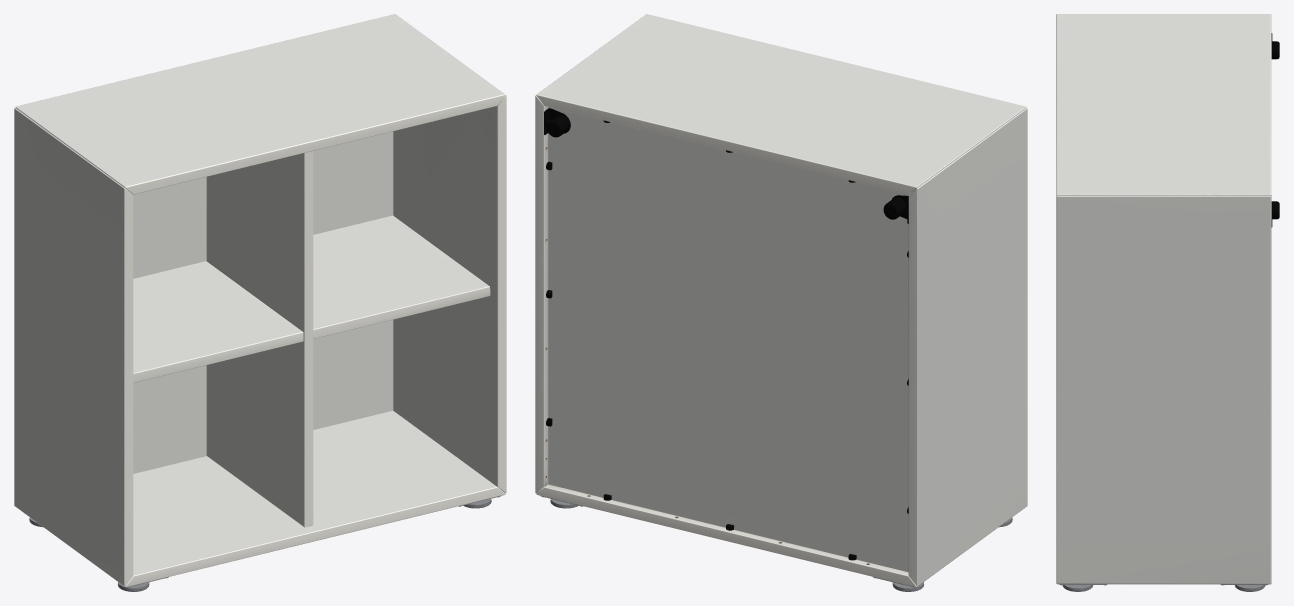
Rendered from 46 - EKET Cabinet combination with feet - white 70x35x72 cm.glb.
The picture shows the model from 3 angles, left to right: view 1: azimuth 30°, elevation 25°; view 2: azimuth 150°, elevation 25°; view 3: azimuth 270°, elevation 25°; orthographic projection. The views are drawn at different scales.
Parts seen in each view (by area): view 1: Mesh_0; view 2: Mesh_0; view 3: Mesh_0.
Boxes of the visible parts, x1,y1,x2,y2 form: Mesh_0: (14,14,506,591); Mesh_0: (535,14,1027,591); Mesh_0: (1056,14,1279,591).
Bounding box in the file's own units: 0.7 × 0.719 × 0.363.
Materials: 1 (1 with a texture image).
